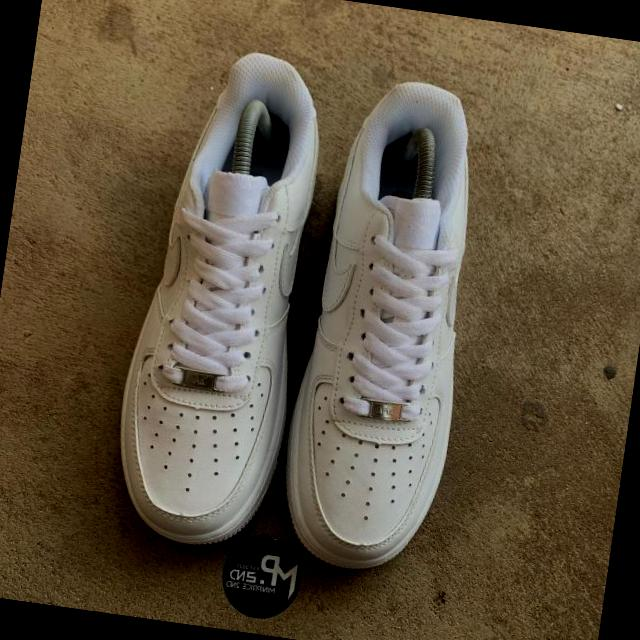nike_fake_airforce: (96, 38, 336, 560), (272, 57, 503, 584)
